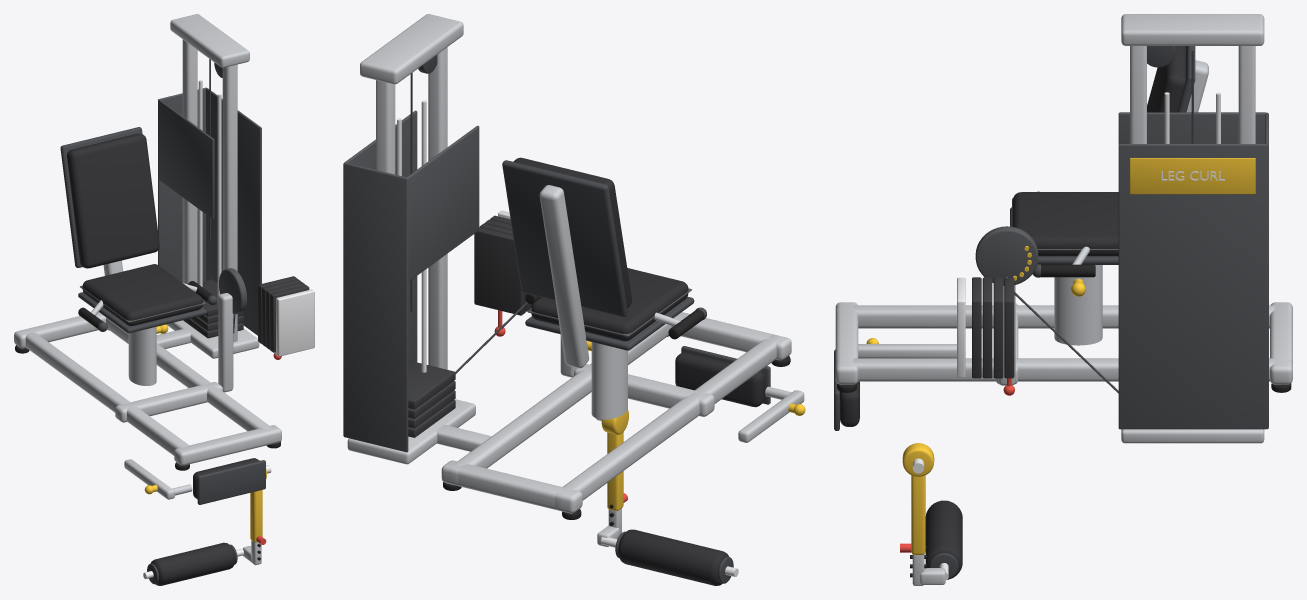
File: SeatedLegCurl.fbx
3 views of the same model, side by side, from view 1: azimuth 30°, elevation 25°; view 2: azimuth 150°, elevation 25°; view 3: azimuth 270°, elevation 25° (orthographic). The views are drawn at different scales.
Parts seen in each view (by area): view 1: Backrest, Shroud_Side_Out, Seat, Shroud_Side_In, Base_Rail_L, Tower_Post_1, Shroud_Back, Tower_Post_2, Base_Rail_R, Head_Plate, Tower_Top, Calf_Pad (+19 smaller); view 2: Shroud_Back, Backrest_Shell, Shroud_Side_In, Base_Rail_L, Back_Post, Base_Rail_R, Seat, Tower_Post_1, Tower_Top, Calf_Pad, Plate_1, Base_Cross_3 (+15 smaller); view 3: Shroud_Side_Out, Seat, Base_Rail_R, Tower_Top, Placard, Base_Rail_L, Shroud_Side_In, Seat_Column, ROM_Dial_Housing, Tower_Base, Calf_Pad, Base_Cross_1 (+18 smaller).
Part boxes in pixels (left/top/right/bottom): Backrest: left=67, top=133, right=159, bottom=268; Shroud_Side_Out: left=206, top=88, right=261, bottom=335; Seat: left=82, top=264, right=202, bottom=326; Shroud_Side_In: left=158, top=99, right=214, bottom=219; Base_Rail_L: left=25, top=329, right=195, bottom=464; Tower_Post_1: left=222, top=64, right=237, bottom=342; Shroud_Back: left=158, top=87, right=206, bottom=282; Tower_Post_2: left=182, top=39, right=197, bottom=284; Base_Rail_R: left=106, top=318, right=275, bottom=444; Head_Plate: left=276, top=289, right=314, bottom=356; Tower_Top: left=170, top=14, right=249, bottom=67; Calf_Pad: left=150, top=542, right=235, bottom=585; Shroud_Back: left=343, top=162, right=408, bottom=452; Backrest_Shell: left=502, top=160, right=627, bottom=317; Shroud_Side_In: left=407, top=125, right=479, bottom=281; Base_Rail_L: left=555, top=334, right=781, bottom=511; Back_Post: left=539, top=185, right=589, bottom=368; Base_Rail_R: left=450, top=324, right=671, bottom=486; Seat: left=531, top=268, right=688, bottom=341; Tower_Post_1: left=428, top=47, right=447, bottom=369; Tower_Top: left=360, top=14, right=463, bottom=84; Calf_Pad: left=618, top=529, right=728, bottom=585; Plate_1: left=474, top=227, right=525, bottom=315; Base_Cross_3: left=441, top=460, right=582, bottom=513; Shroud_Side_Out: left=1118, top=144, right=1266, bottom=429; Seat: left=1012, top=192, right=1118, bottom=256; Base_Rail_R: left=835, top=358, right=1292, bottom=381; Tower_Top: left=1121, top=14, right=1264, bottom=45; Placard: left=1130, top=158, right=1255, bottom=194; Base_Rail_L: left=835, top=305, right=1292, bottom=328; Shroud_Side_In: left=1118, top=112, right=1265, bottom=143; Seat_Column: left=1054, top=265, right=1102, bottom=345; ROM_Dial_Housing: left=975, top=226, right=1038, bottom=285; Tower_Base: left=1121, top=429, right=1264, bottom=443; Calf_Pad: left=925, top=500, right=962, bottom=579; Base_Cross_1: left=835, top=302, right=858, bottom=384.
Bounding box in the file's own units: 1.14 × 2.34 × 1.61.
